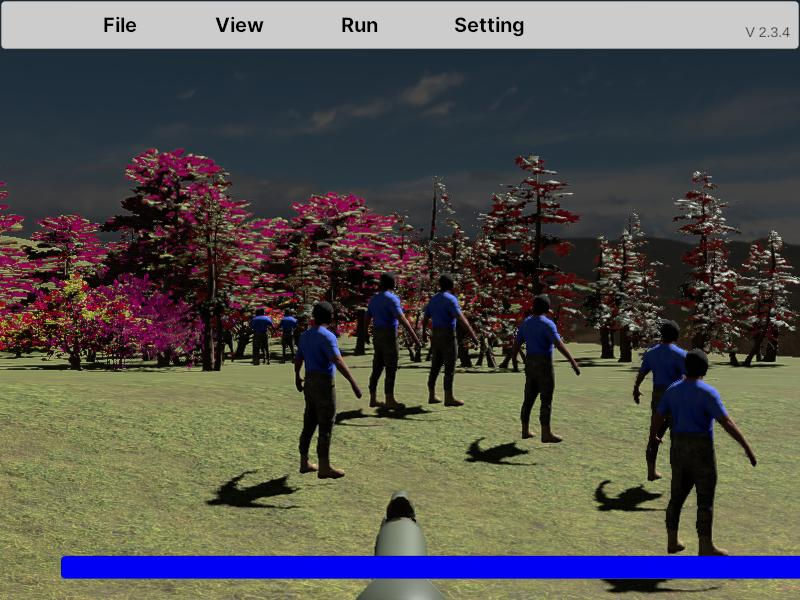Human: (645, 346, 757, 560), (294, 300, 362, 480), (632, 319, 704, 480), (516, 294, 580, 443), (363, 271, 420, 413), (420, 272, 478, 408)
